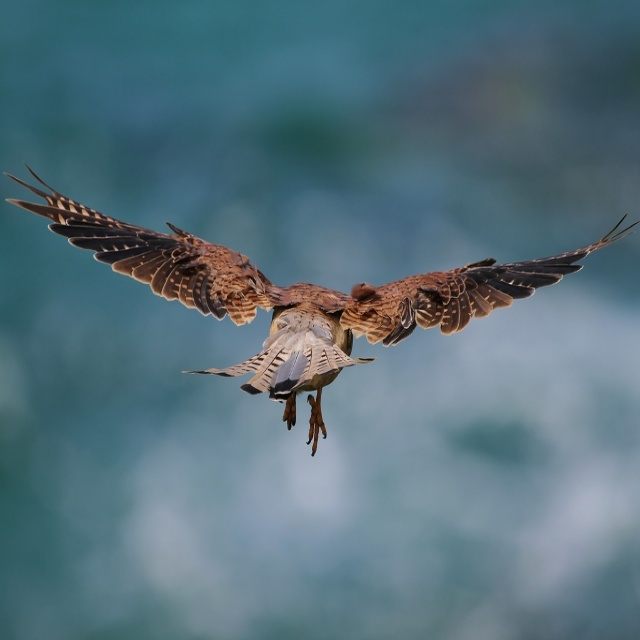Eagle: (3, 156, 640, 458)
